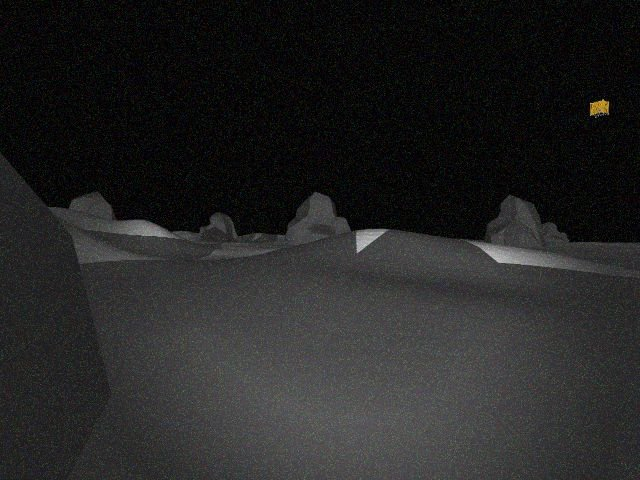cubesat: (586, 94, 611, 119)
